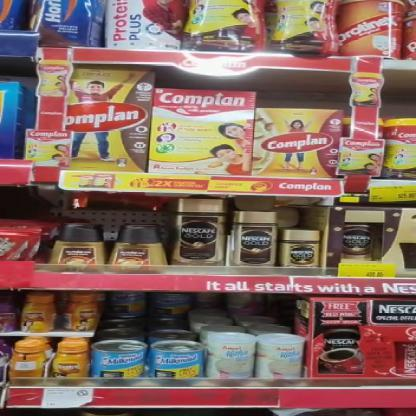Complan Kesar Badam: (152, 87, 254, 174), (251, 106, 345, 177)
Complan Royal Chocolate: (66, 69, 154, 170)
